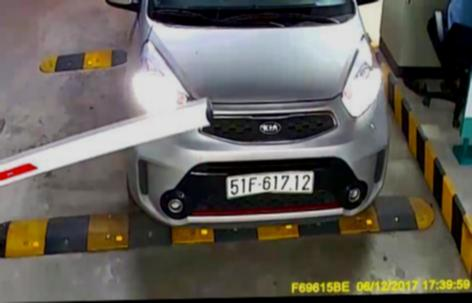License_Plate: (220, 164, 316, 207)
